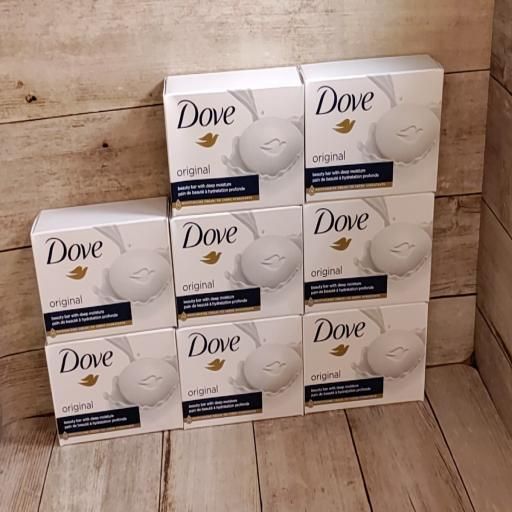Dove`1: (300, 44, 452, 206), (161, 61, 310, 218), (26, 196, 179, 343), (162, 202, 319, 334), (294, 192, 444, 316), (42, 333, 186, 448), (292, 304, 437, 416), (174, 317, 311, 434)
